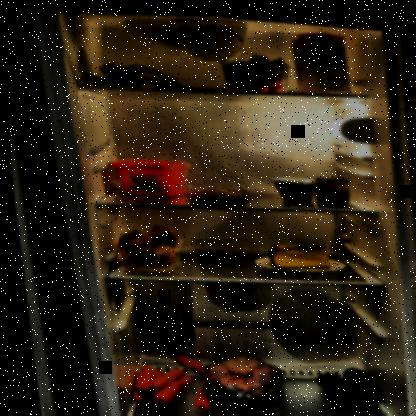banana: (79, 53, 180, 97)
butter: (105, 151, 189, 199)
carrot: (119, 344, 213, 414)
cheese: (261, 235, 332, 269)
chicken: (192, 346, 285, 406)
corn: (311, 168, 351, 203)
lime: (308, 357, 380, 401)
onion: (110, 217, 181, 269)
shrimp: (180, 180, 246, 203)
strawberries: (216, 43, 290, 92)
